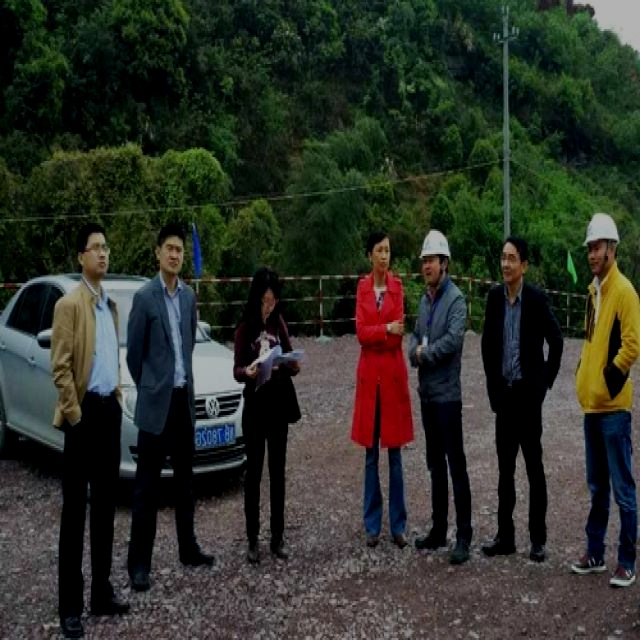Con_Casco: (582, 214, 619, 275), (418, 229, 450, 283)
Sin_Casco_Mascarrilla: (79, 223, 110, 280), (157, 223, 186, 276)
